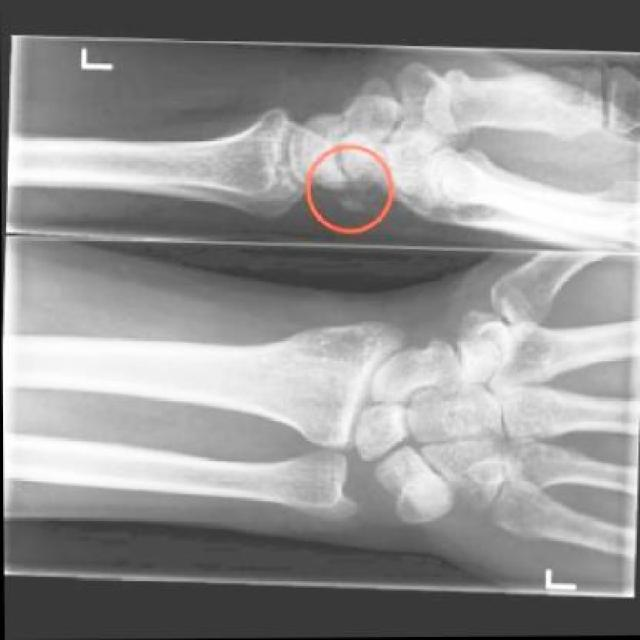Fracture: (389, 466, 434, 516), (333, 176, 370, 218)
